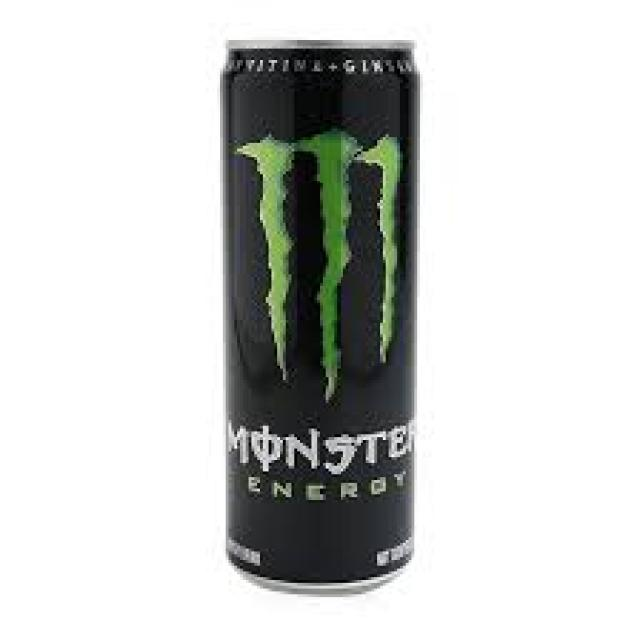Cans: (212, 25, 439, 610)
